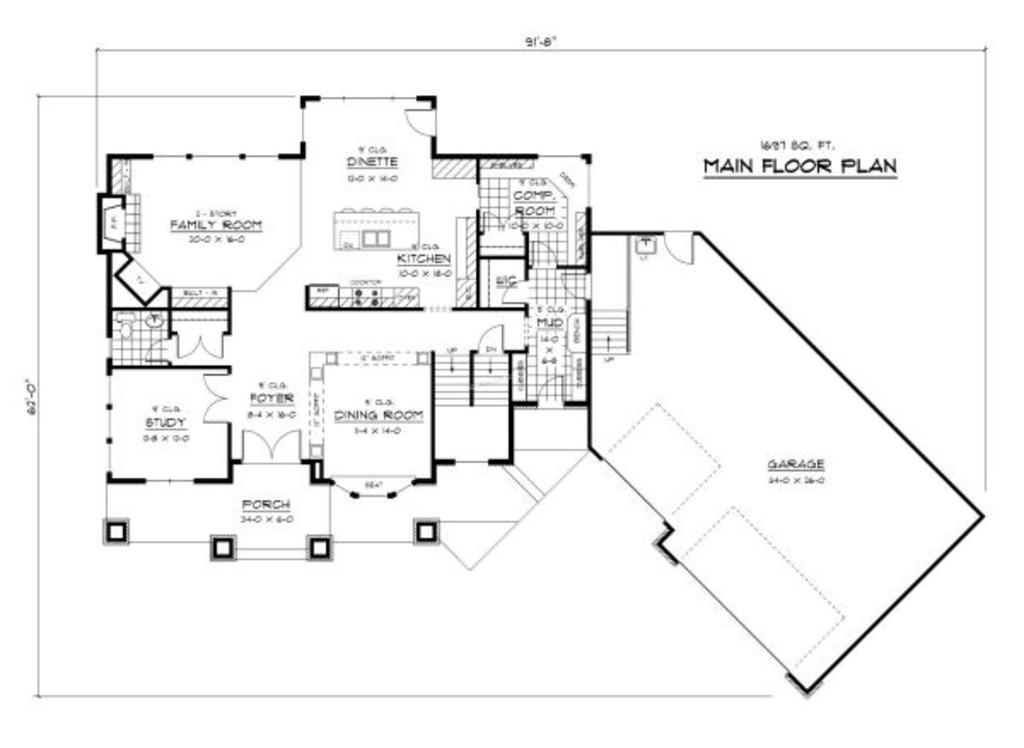door: (238, 429, 302, 468), (658, 227, 704, 268), (173, 328, 227, 360), (203, 369, 231, 425), (400, 105, 437, 137), (476, 322, 507, 353), (497, 277, 530, 306)
kitchen_bar: (331, 202, 423, 252)
large_sink: (108, 303, 138, 340)
stairs: (431, 350, 510, 468), (589, 230, 635, 364)
windows: (140, 150, 277, 163), (104, 370, 114, 472), (145, 476, 210, 489)
